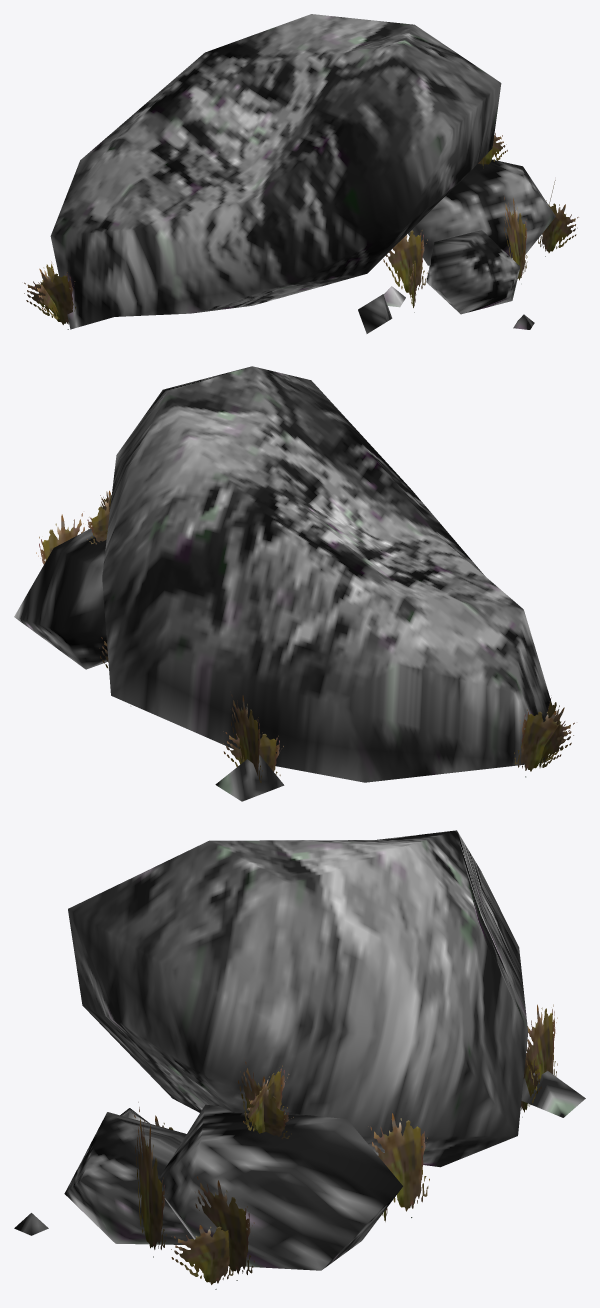
The picture shows the model from 3 angles, top to bottom: view 1: azimuth 30°, elevation 25°; view 2: azimuth 150°, elevation 25°; view 3: azimuth 270°, elevation 25°; orthographic projection. The views are drawn at different scales.
Parts seen in each view (by area): view 1: Stone01; view 2: Stone01; view 3: Stone01.
Boxes of the visible parts, box(x1,y1,x2,y2) form: Stone01: box(24, 14, 578, 333); Stone01: box(14, 366, 574, 801); Stone01: box(14, 830, 585, 1289).
Bounding box in the file's own units: 412 × 205 × 286.
